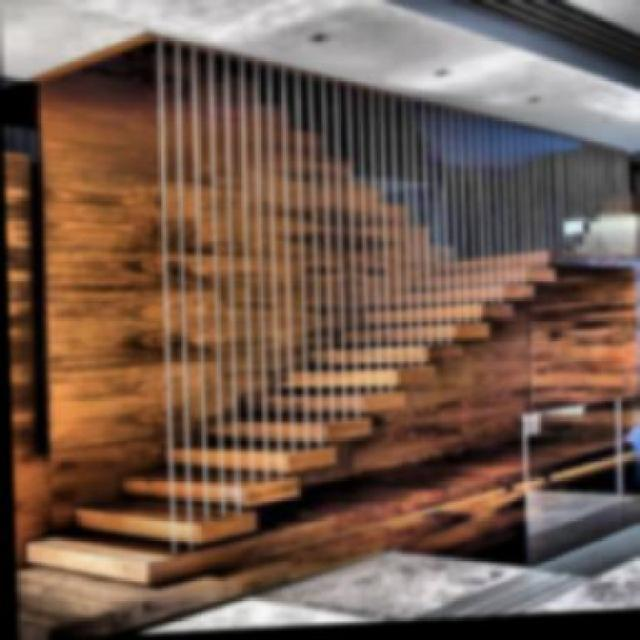stair: (17, 248, 628, 588)
